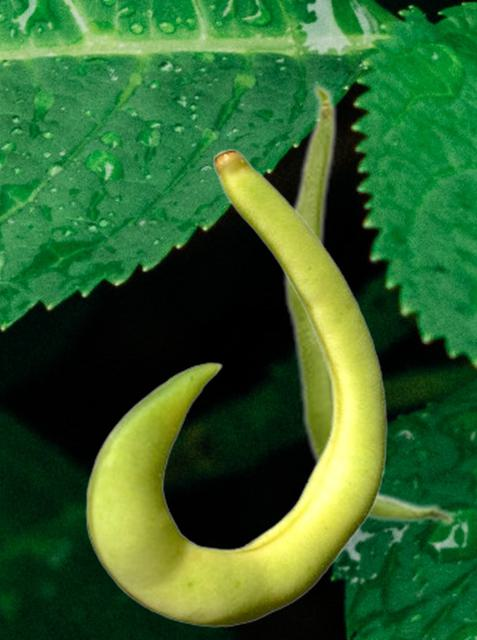french_bean: (85, 148, 387, 626), (280, 81, 457, 527)
